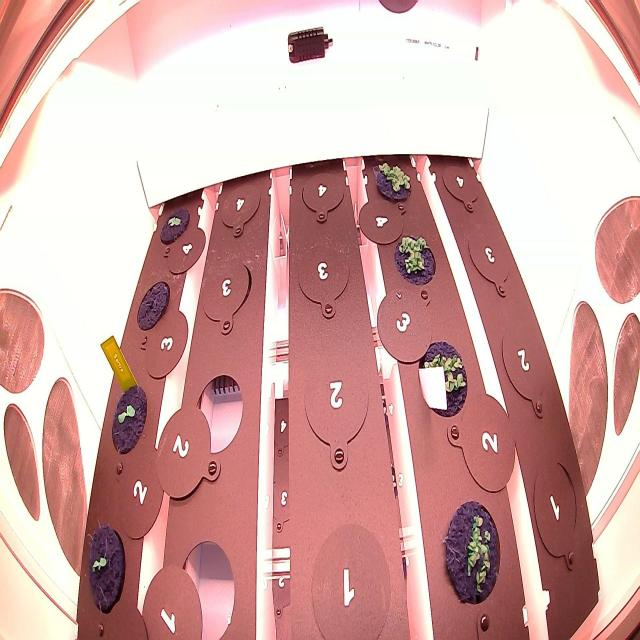empty_pod: (299, 512, 394, 640), (298, 340, 374, 470), (528, 448, 582, 574), (174, 532, 236, 639), (494, 312, 551, 419), (187, 364, 246, 462), (293, 234, 354, 325), (197, 250, 257, 332), (216, 169, 264, 245), (469, 219, 514, 299), (294, 160, 350, 223), (438, 158, 484, 215)
germination: (437, 489, 510, 613), (414, 324, 474, 426), (82, 520, 132, 616), (390, 219, 442, 294), (106, 381, 152, 459), (371, 145, 418, 215), (157, 198, 191, 249)
pod: (130, 270, 177, 337)
